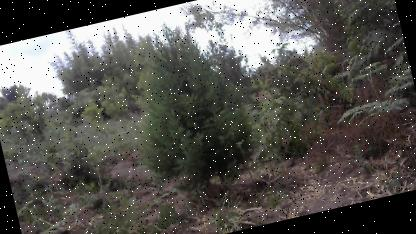tree: (107, 4, 278, 214)
